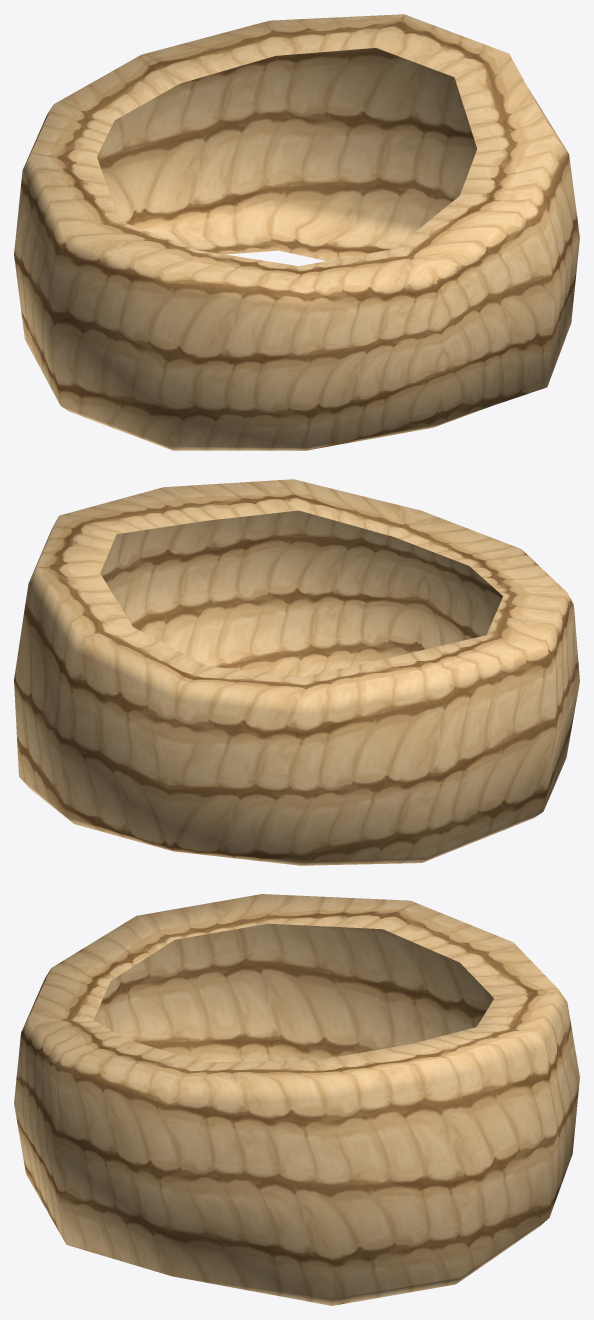
Rendered from RopeBound.fbx.
3 renders of one model, top to bottom at view 1: azimuth 30°, elevation 25°; view 2: azimuth 150°, elevation 25°; view 3: azimuth 270°, elevation 25°, orthographic. The views are drawn at different scales.
Parts seen in each view (by area): view 1: polySurface1206; view 2: polySurface1206; view 3: polySurface1206.
Part boxes in pixels (<box>): polySurface1206: <box>14,14,579,450</box>; polySurface1206: <box>14,479,579,865</box>; polySurface1206: <box>14,894,579,1305</box>.
Size of the model in its own units: 7.92 by 3.45 by 7.82.
